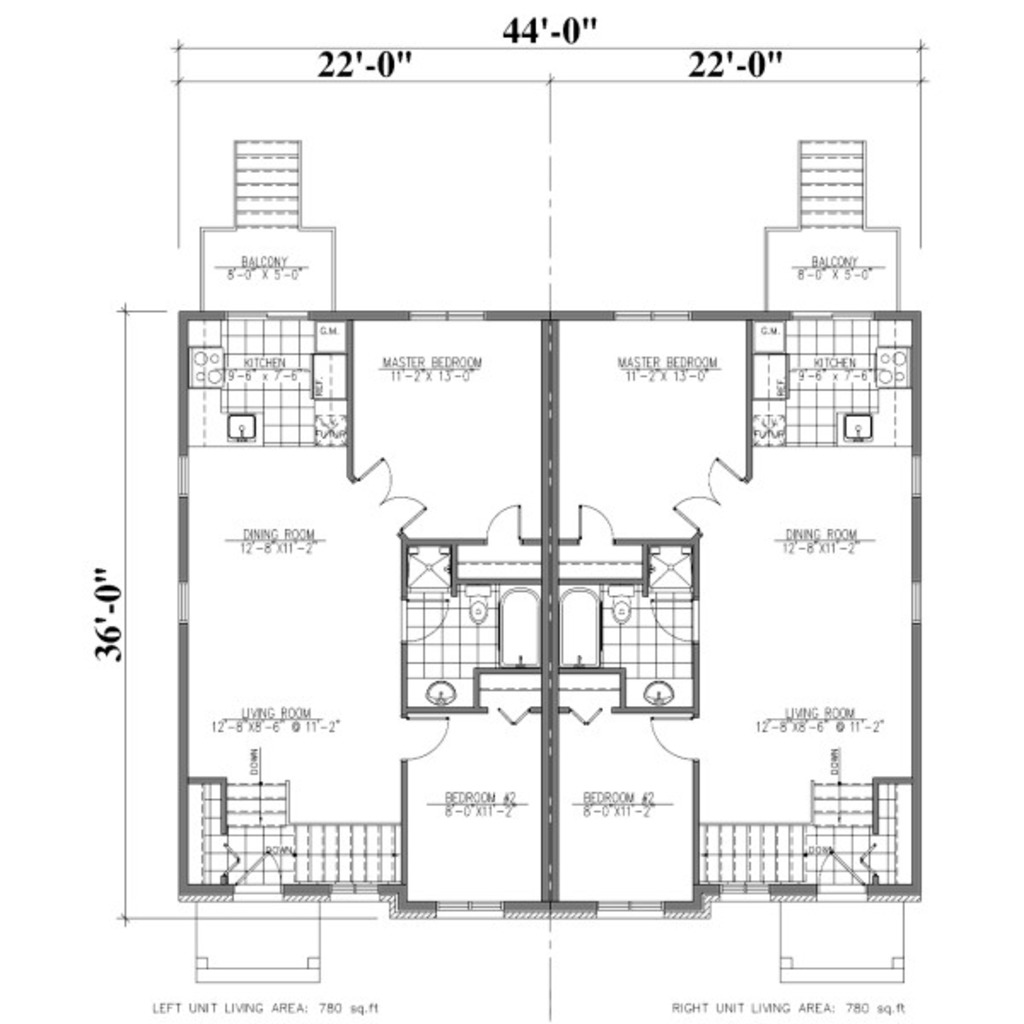door: (669, 458, 746, 533), (358, 455, 427, 538), (644, 594, 704, 652), (650, 711, 701, 766), (402, 711, 453, 765), (402, 594, 455, 643), (575, 502, 620, 548), (485, 502, 523, 545)
large_sink: (605, 582, 644, 630), (459, 577, 495, 626)
sink: (835, 412, 882, 446), (223, 409, 260, 449)
small_sink: (403, 676, 482, 710), (623, 676, 694, 707)
stairs: (189, 775, 407, 889), (695, 780, 896, 889), (229, 132, 308, 240), (790, 129, 868, 233)
tub: (500, 584, 548, 667), (560, 582, 601, 670)
window: (430, 893, 510, 923), (791, 307, 876, 327), (605, 309, 693, 326), (598, 901, 667, 922), (171, 448, 197, 501), (219, 309, 307, 324), (320, 884, 384, 904), (814, 883, 868, 905), (231, 879, 282, 900), (405, 307, 484, 320), (176, 575, 193, 626), (906, 576, 923, 624), (721, 885, 776, 899), (910, 453, 922, 498)
